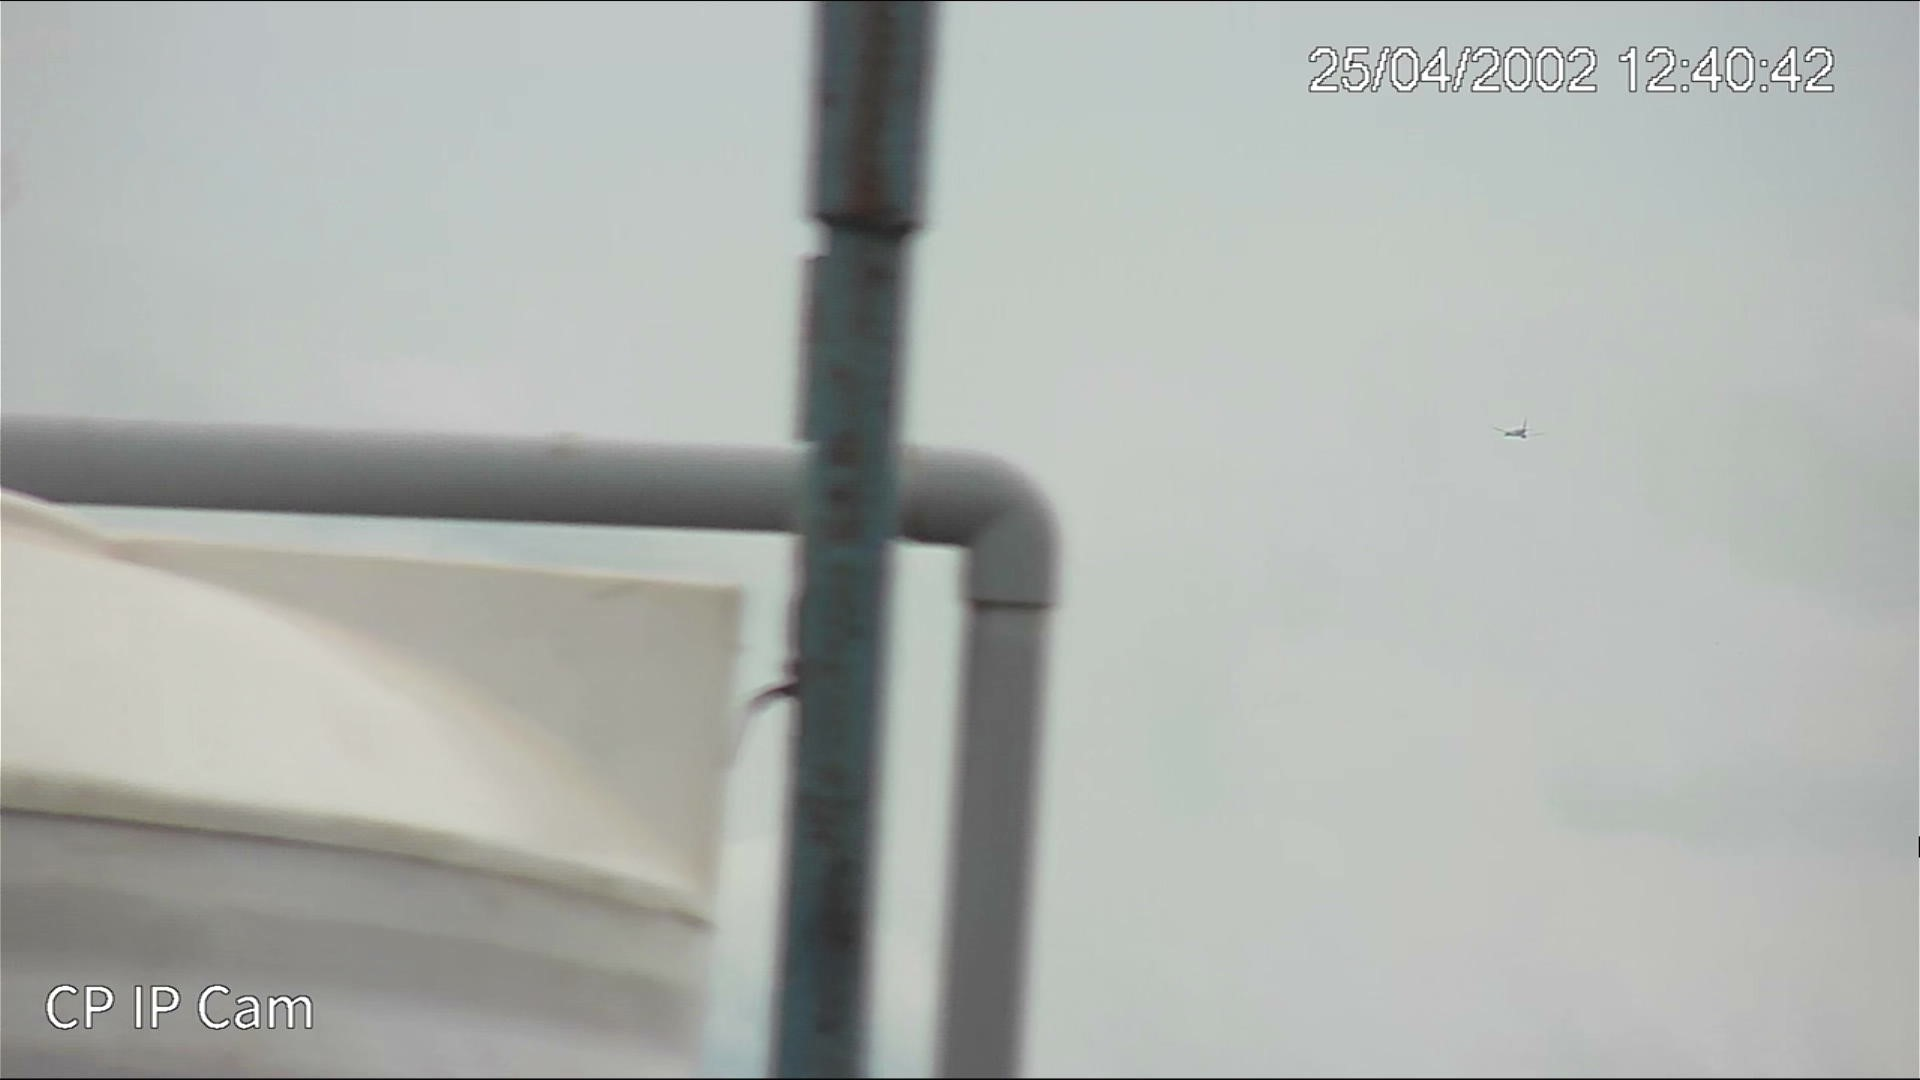SU_30: (1502, 425, 1532, 440)
